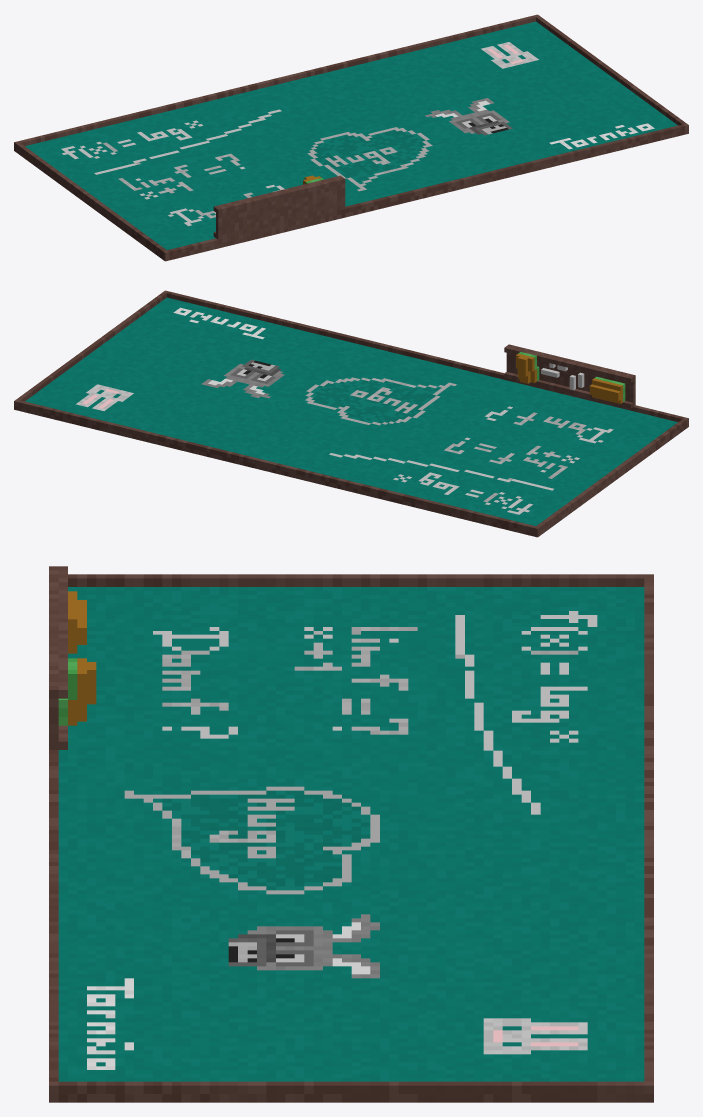
The model's file is pizarra2.obj.
The picture shows the model from 3 angles, top to bottom: view 1: azimuth 30°, elevation 25°; view 2: azimuth 150°, elevation 25°; view 3: azimuth 270°, elevation 25°; orthographic projection. The views are drawn at different scales.
Size of the model in its own units: 12.8 by 0.9 by 6.4.
1 material, 1 textured.
